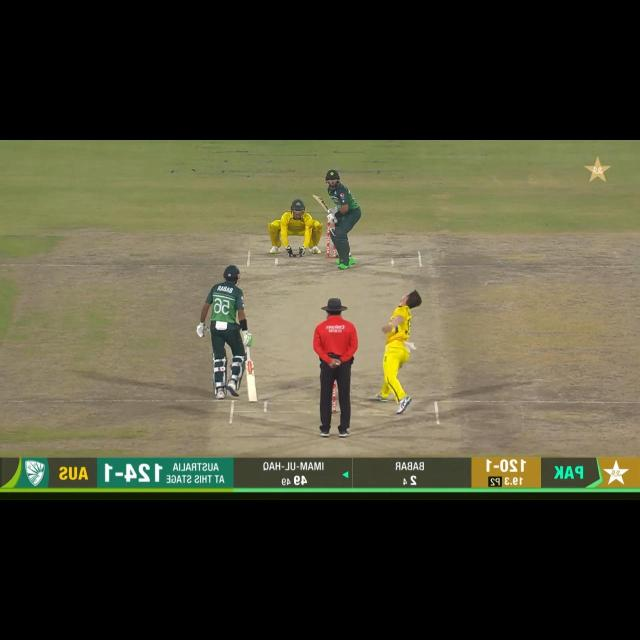bat: (246, 362, 260, 403), (311, 193, 331, 212)
toe: (244, 395, 259, 403), (310, 195, 324, 203)
